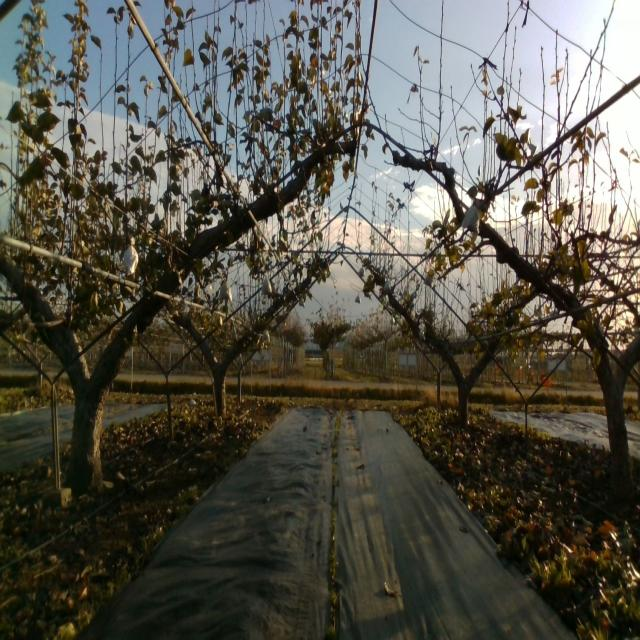pearbags: (123, 235, 140, 274), (462, 201, 481, 231), (217, 276, 233, 300), (261, 274, 272, 299)
